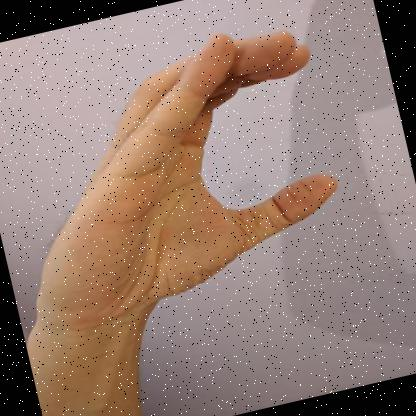C: (34, 31, 337, 342)
